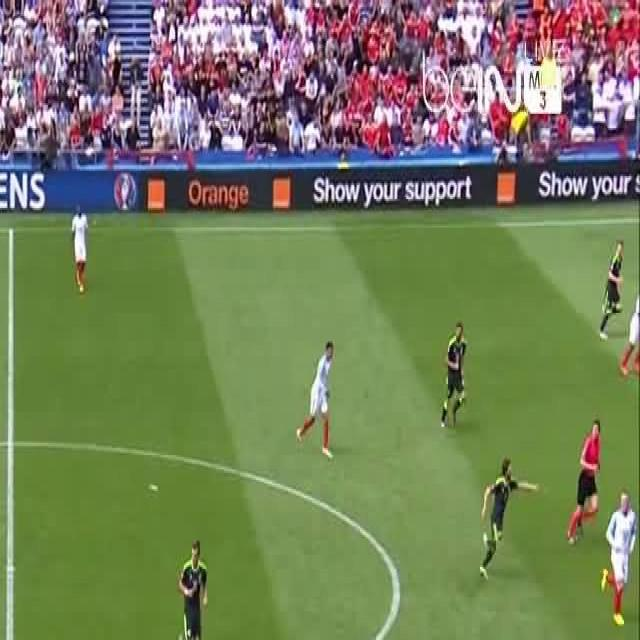player-white: (480, 460, 541, 582), (600, 492, 640, 626), (294, 338, 334, 460), (568, 419, 600, 543), (174, 537, 207, 640), (440, 323, 468, 429), (599, 242, 625, 344), (72, 202, 88, 294)
